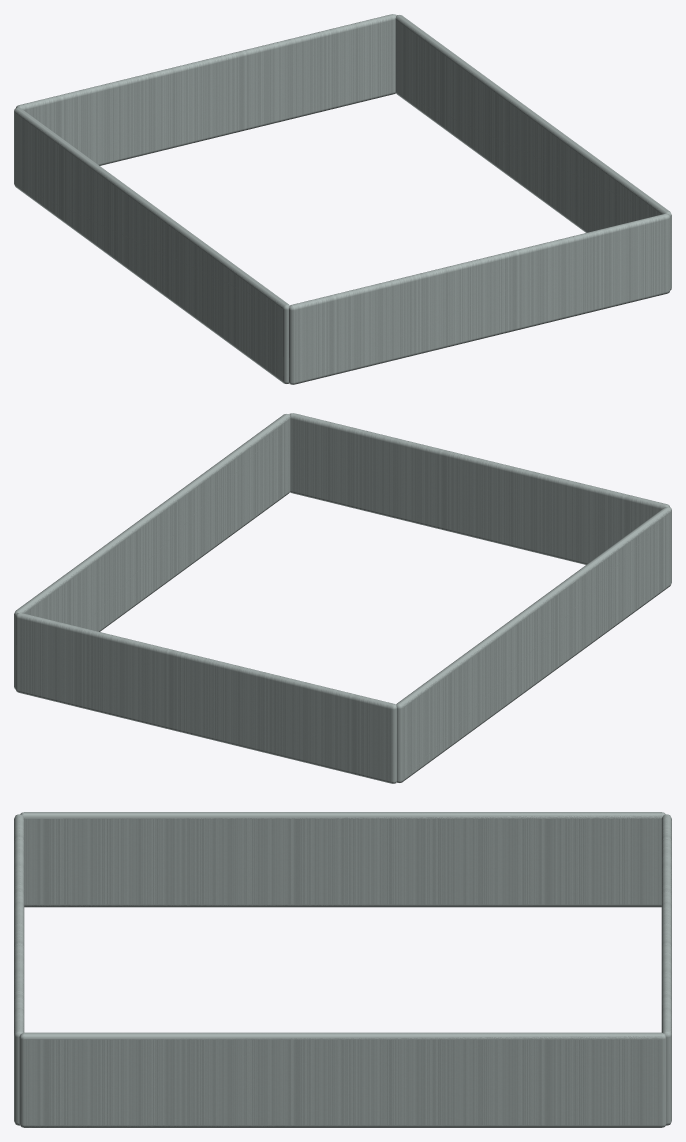
File: detail-column-trim-0.glb
The picture shows the model from 3 angles, top to bottom: view 1: azimuth 30°, elevation 25°; view 2: azimuth 150°, elevation 25°; view 3: azimuth 270°, elevation 25°; orthographic projection. The views are drawn at different scales.
Visible parts, largest first — view 1: column_base (×4); view 2: column_base (×4); view 3: column_base (×4).
Boxes of the visible parts, x1,y1,x2,y2 form: column_base (×4): [14, 14, 671, 384]; column_base (×4): [14, 413, 671, 783]; column_base (×4): [14, 812, 671, 1127].
Bounding box in the file's own units: 1.28 × 0.25 × 1.58.
1 material, 1 textured.
